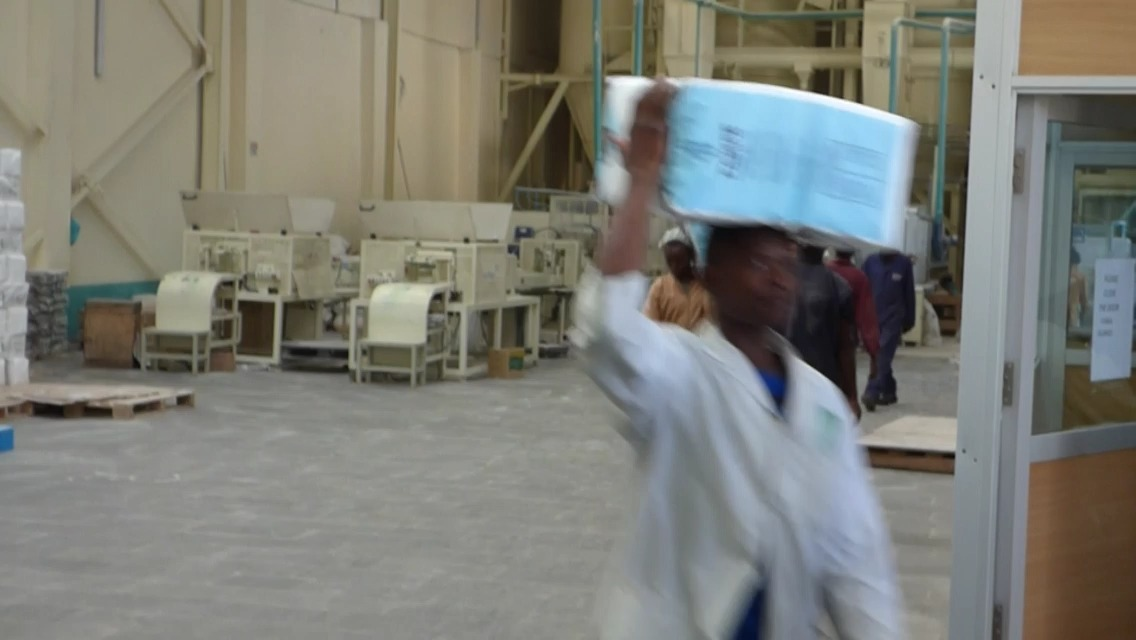wheat_flour_blue_label: (601, 77, 920, 246)
